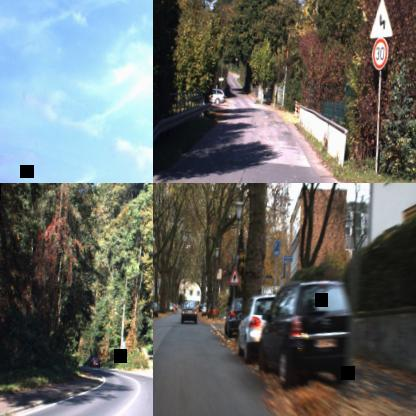bend left: (370, 0, 395, 40)
priority at next intersection: (228, 266, 242, 286)
speed limit 30: (371, 36, 389, 70)
